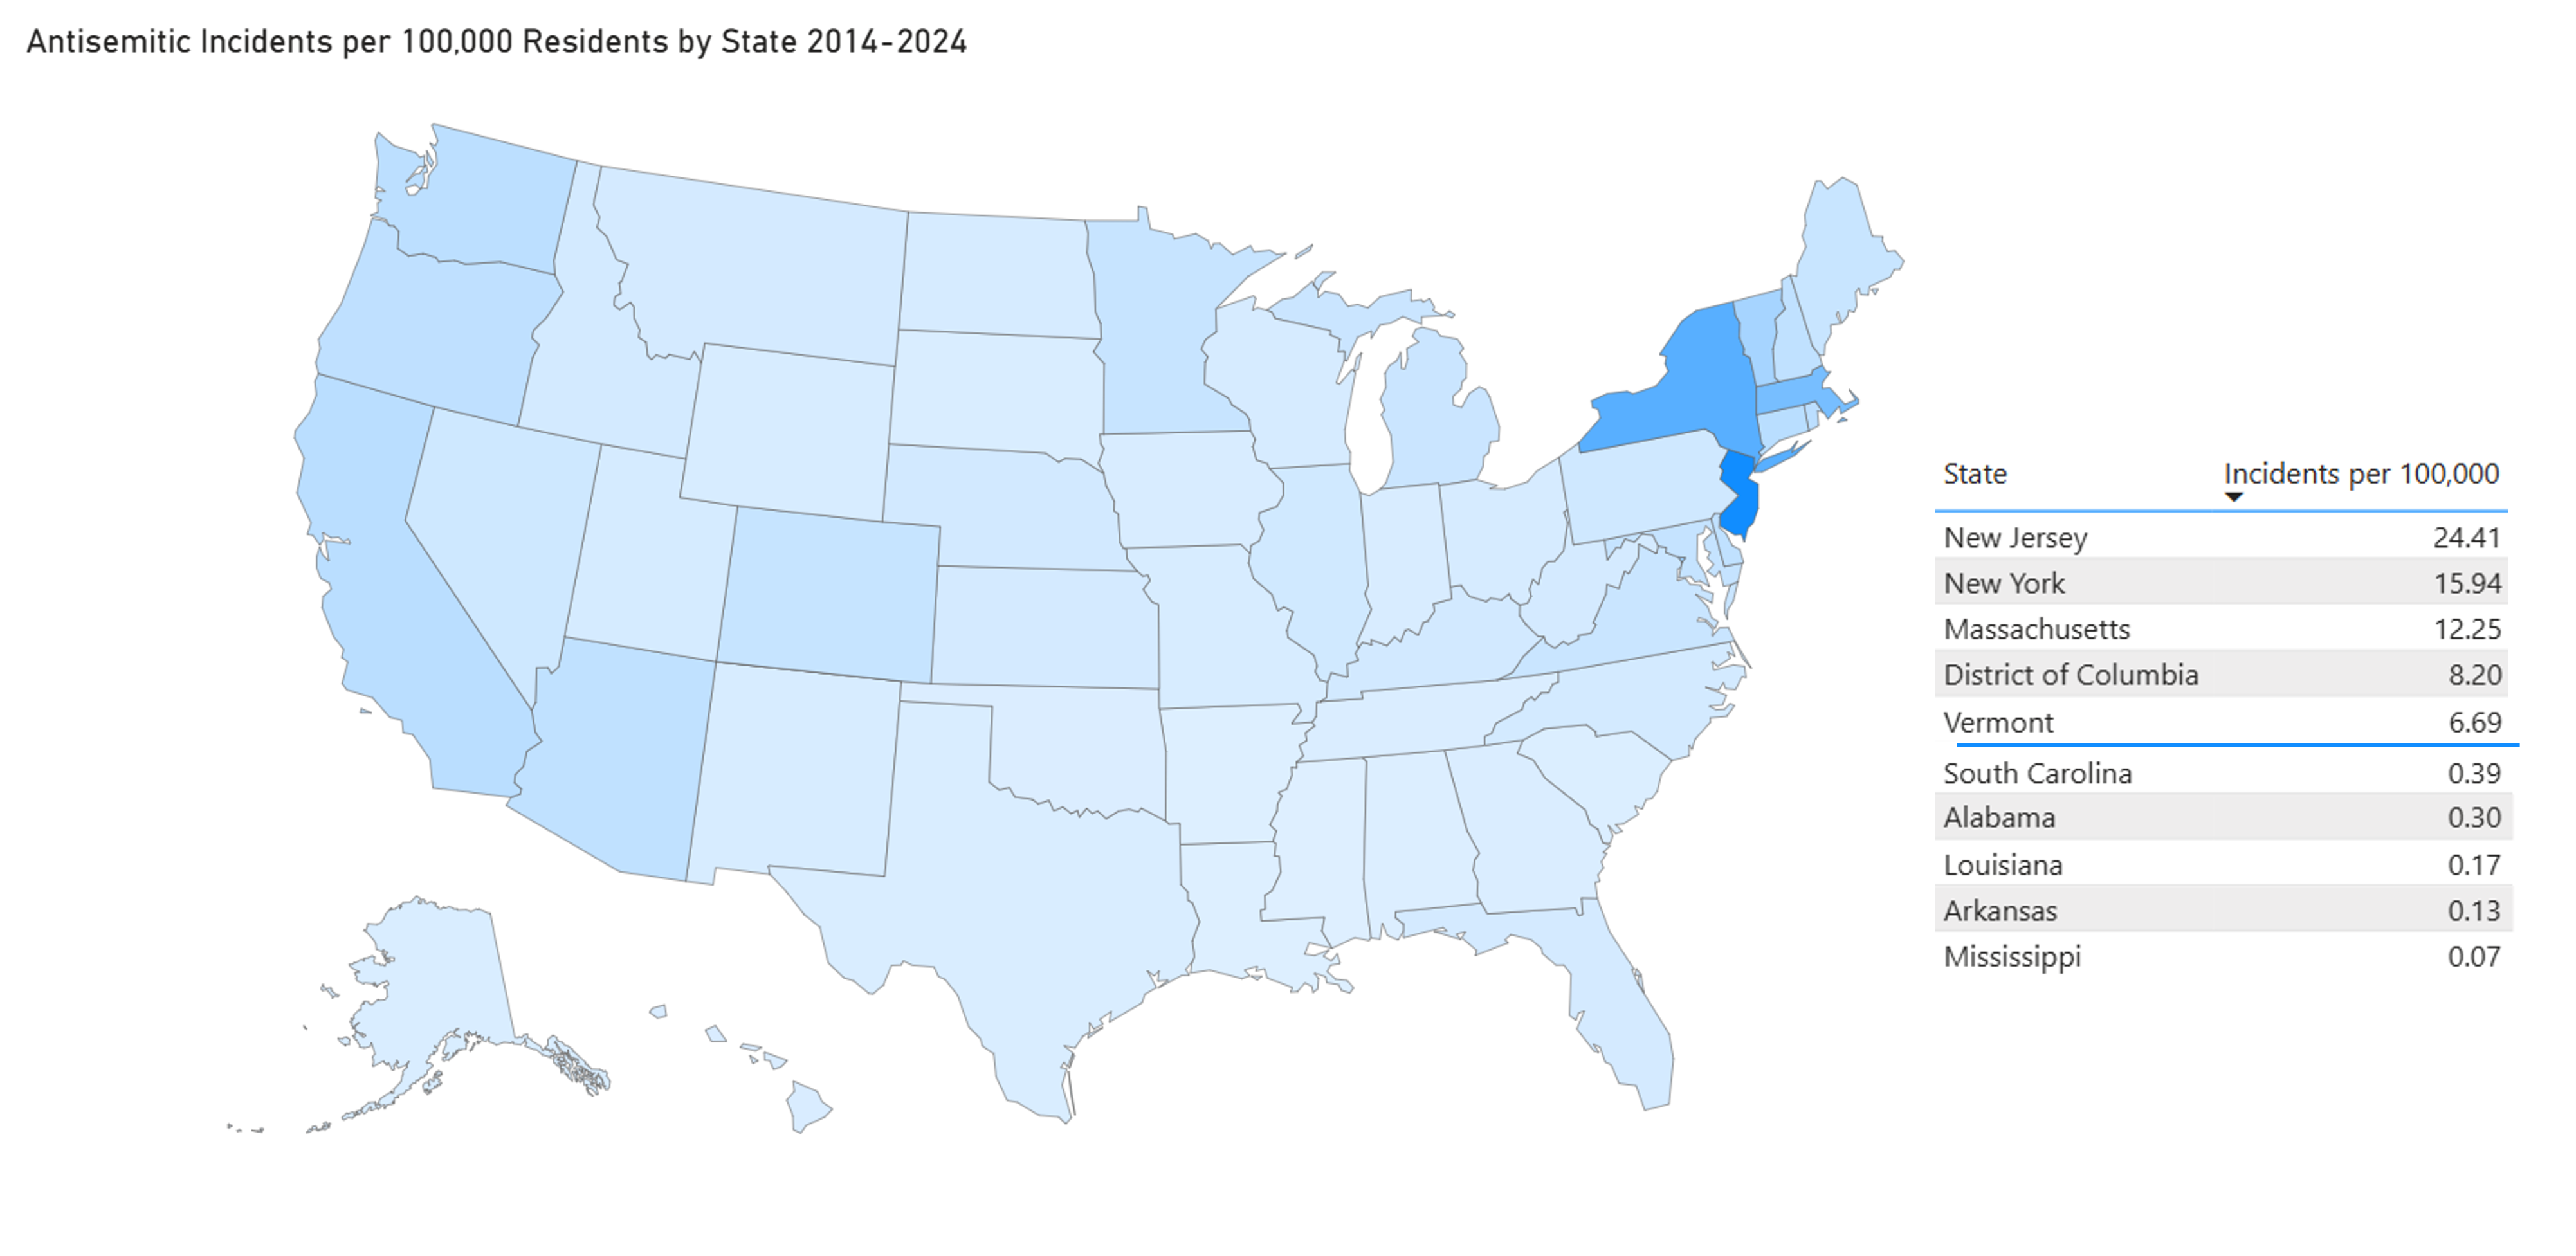

This screenshot's page, from the dashboard's own definition file:
{"tool":"powerbi","page":{"name":"AS Map","canvas":[1280,720],"ordinal":4},"visuals":[{"type":"shapeMap","title":"Antisemitic Incidents per 100,000 Residents by State 2015-2024","fields":{"Category":["State Incidents per Capita.State"],"Value":["Sum(State Incidents per Capita.AS Incidents per 100,000)"]},"box":[32.1,17,1218.9,684.1],"z":0}]}

Visuals, with their boxes on the page's 1280x720 design canvas (x1, y1, x2, y2). These are canvas units, not pixel positions in the 2576x1256 screenshot, which may show the page scaled, cropped or inside an application window:
"Antisemitic Incidents per 100,000 Residents by State 2015-2024" shapeMap: (x1=32, y1=17, x2=1251, y2=701)
